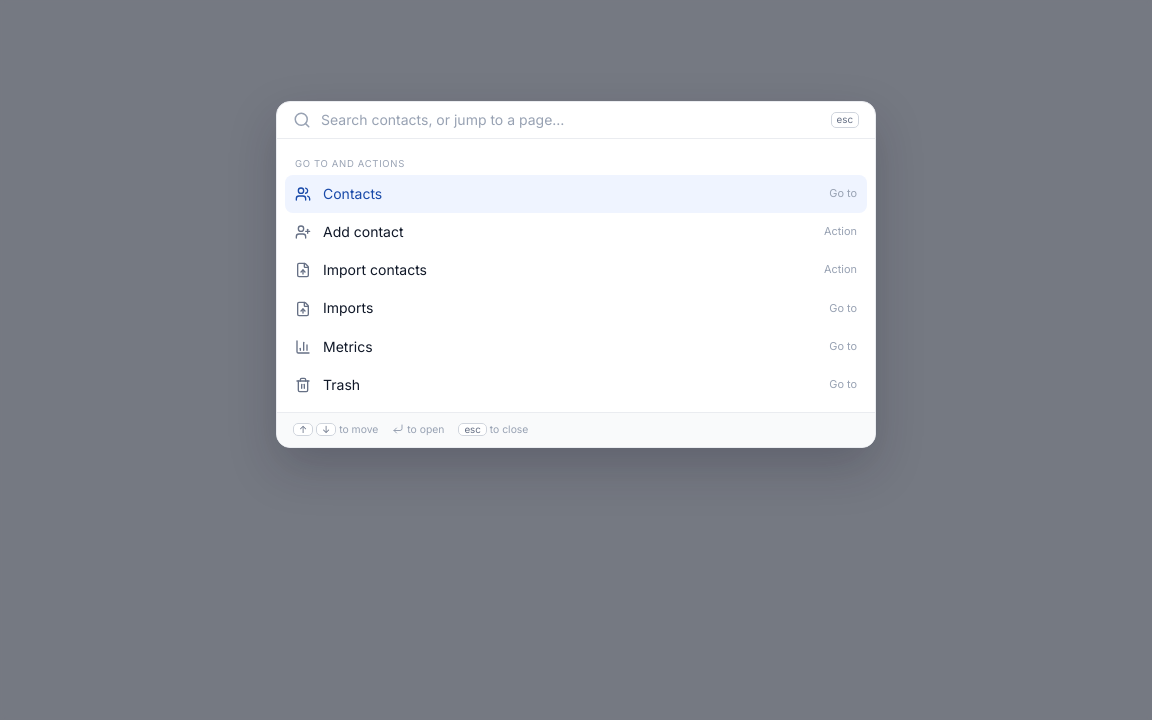
CommandPalette › ranks names that start with the query above names that merely contain it
Type "ada" into the dropdown with placeholder "Search contacts, or jump to a page…" at x=571, y=120, box top-left (321, 102), bottom-right (820, 138)
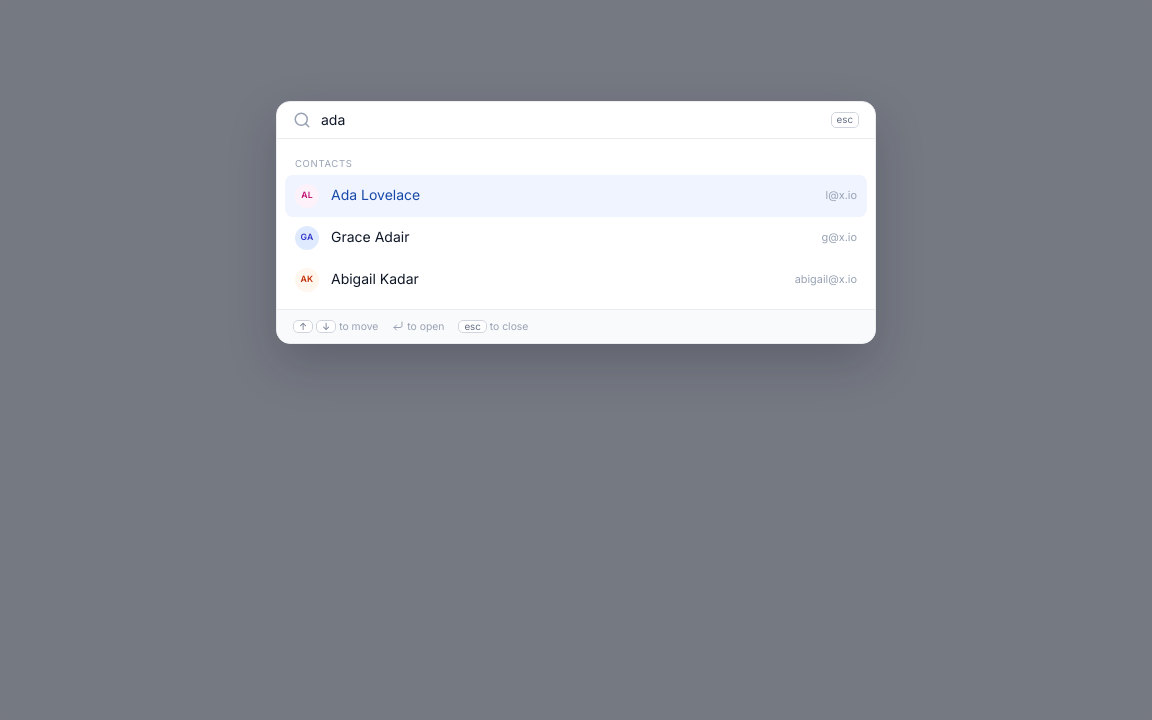
expect the option "AL Ada Lovelace l@x.io" is shown: met, box top-left (285, 175), bottom-right (867, 217)
